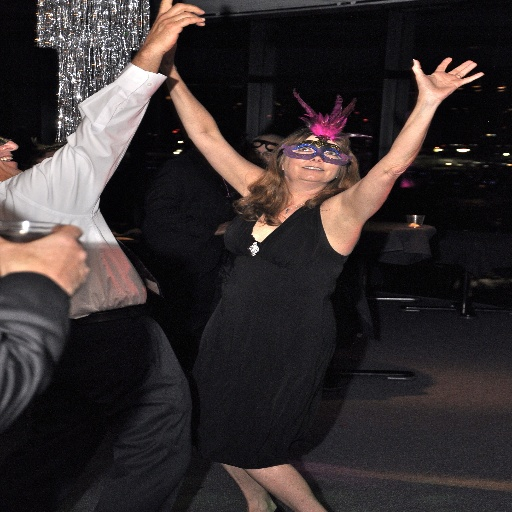hand: (0, 221, 90, 298), (146, 0, 209, 55), (414, 51, 485, 92), (156, 45, 174, 71)
